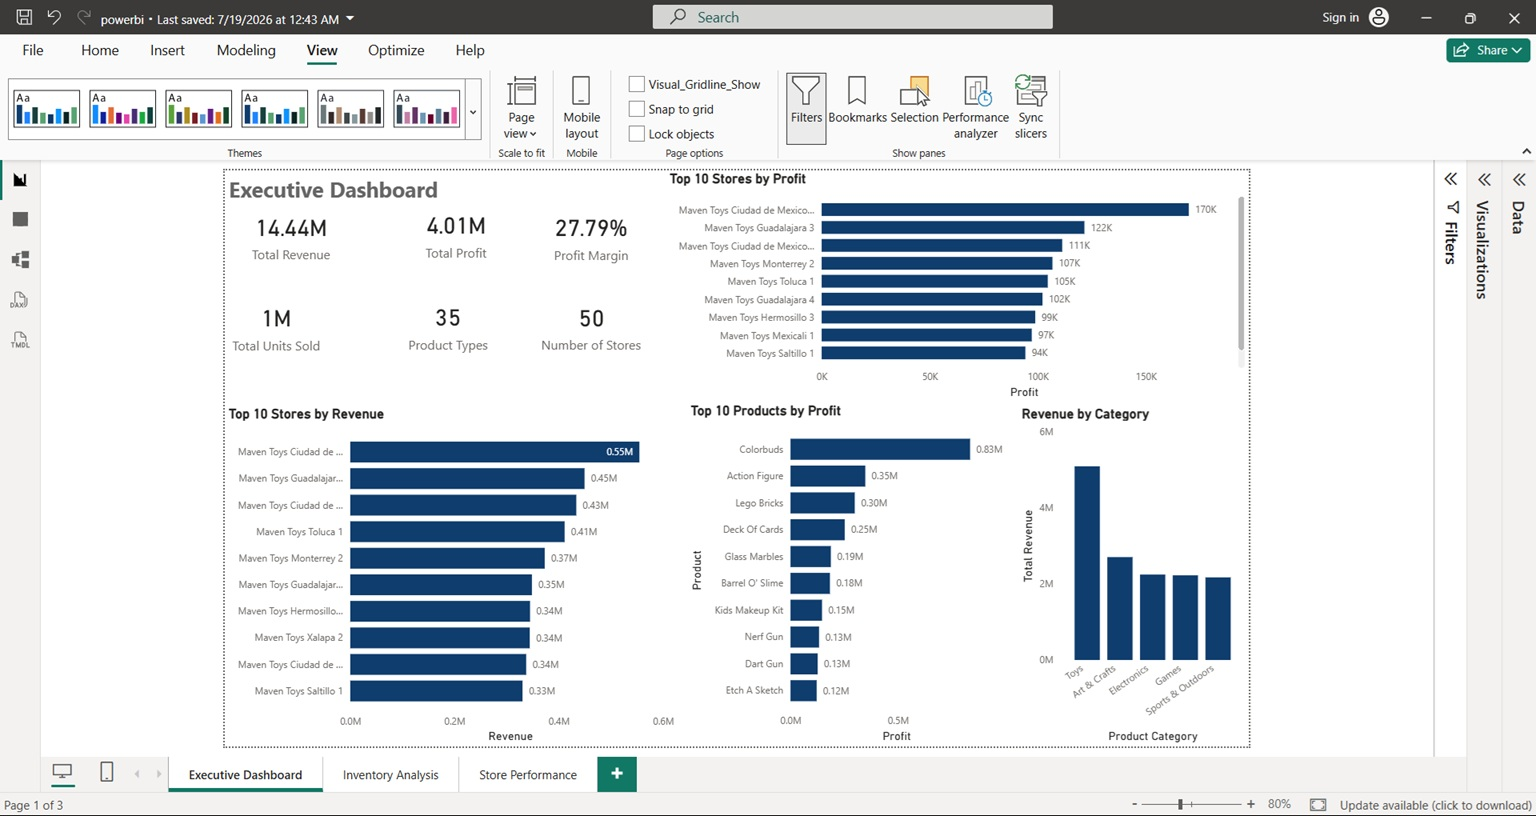

The dashboard page shown, as its layout file describes it:
{"tool":"powerbi","page":{"name":"Executive Dashboard","canvas":[1280,720],"ordinal":0},"visuals":[{"type":"card","fields":{"Values":["00_Measures.Profit Margin"]},"box":[377.9,26.9,161.4,107.6],"z":0},{"type":"card","fields":{"Values":["00_Measures.Total Profit"]},"box":[193.8,0,191.2,156.2],"z":1000},{"type":"card","fields":{"Values":["00_Measures.Total Revenue"]},"box":[0,4.9,166.3,151.6],"z":2000},{"type":"barChart","title":"Top 10 Stores by Revenue","fields":{"Category":["public vw_sales_analysis.store_name"],"Y":["Sum(public vw_sales_analysis.revenue)"]},"box":[0,293.5,577.2,426.8],"z":3000},{"type":"barChart","title":"Top 10 Products by Profit","fields":{"Category":["public vw_sales_analysis.product_name"],"Y":["Sum(public vw_sales_analysis.profit)"]},"box":[577.2,289.8,414.5,430.4],"z":4000},{"type":"columnChart","title":"Revenue by Category","fields":{"Category":["public vw_product_kpis.product_category"],"Y":["Sum(public vw_product_kpis.total_revenue)"]},"box":[991.2,293.8,288.8,426.2],"z":5000},{"type":"barChart","title":"Top 10 Stores by Profit","fields":{"Y":["Sum(public vw_sales_analysis.profit)"],"Category":["public vw_sales_analysis.store_name"]},"box":[551.2,0,728.8,290],"z":6000},{"type":"card","fields":{"Values":["00_Measures.Total Units Sold"]},"box":[0,136.7,128.9,115.6],"z":7000},{"type":"card","fields":{"Values":["00_Measures.Number of Products"]},"box":[193.3,145.6,171.1,96.7],"z":8000},{"type":"card","fields":{"Values":["00_Measures.Number of Stores"]},"box":[371.7,141.8,173.6,105.2],"z":9000},{"type":"textbox","box":[0,0,289.8,45.2],"z":10000}]}

Visuals, with their boxes on the page's 1280x720 design canvas (x1, y1, x2, y2). These are canvas units, not pixel positions in the 1536x816 screenshot, which may show the page scaled, cropped or inside an application window:
card - 00_Measures.Profit Margin: select_region(378, 27, 539, 134)
card - 00_Measures.Total Profit: select_region(194, 0, 385, 156)
card - 00_Measures.Total Revenue: select_region(0, 5, 166, 156)
"Top 10 Stores by Revenue" barChart: select_region(0, 294, 577, 720)
"Top 10 Products by Profit" barChart: select_region(577, 290, 992, 720)
"Revenue by Category" columnChart: select_region(991, 294, 1280, 720)
"Top 10 Stores by Profit" barChart: select_region(551, 0, 1280, 290)
card - 00_Measures.Total Units Sold: select_region(0, 137, 129, 252)
card - 00_Measures.Number of Products: select_region(193, 146, 364, 242)
card - 00_Measures.Number of Stores: select_region(372, 142, 545, 247)
textbox: select_region(0, 0, 290, 45)
